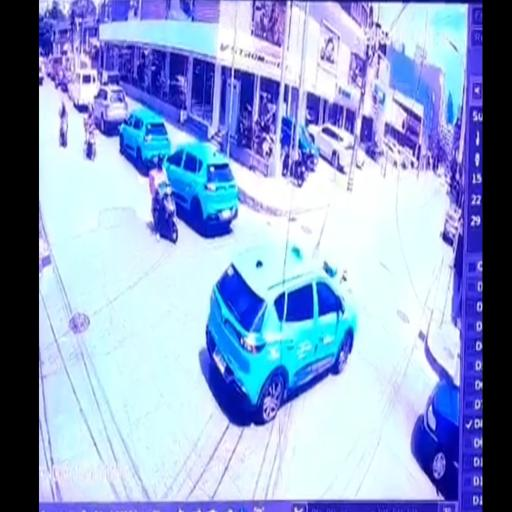Car: (207, 245, 354, 418), (162, 140, 239, 234), (412, 374, 460, 498), (120, 112, 170, 174), (310, 123, 360, 171), (279, 116, 320, 173), (94, 84, 128, 132), (68, 68, 100, 111), (381, 137, 412, 169), (441, 200, 462, 246), (49, 56, 67, 88)
Minor Accident: (207, 244, 355, 420)
Motor: (294, 246, 354, 302), (148, 162, 178, 243), (280, 141, 308, 187), (83, 108, 96, 158), (58, 101, 68, 146)
